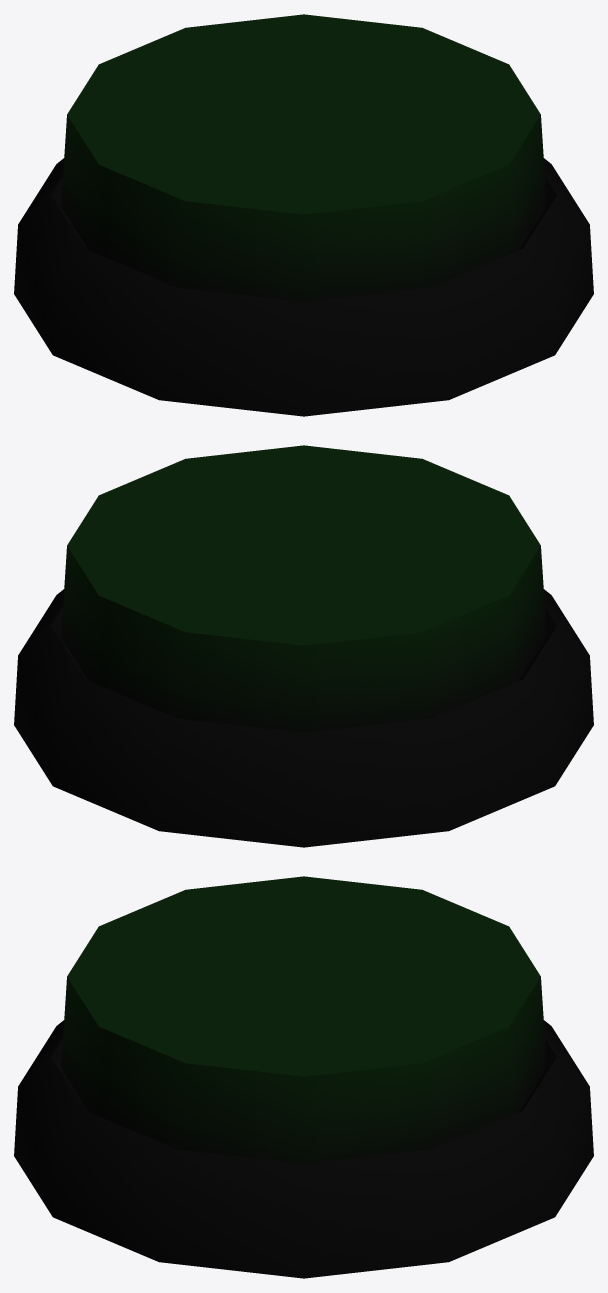
File: Beacon Bulb.fbx
3 renders of one model, top to bottom at view 1: azimuth 30°, elevation 25°; view 2: azimuth 150°, elevation 25°; view 3: azimuth 270°, elevation 25°, orthographic.
Visible parts, largest first — view 1: Beacon Bulb; view 2: Beacon Bulb; view 3: Beacon Bulb.
Boxes of the visible parts, <box> form: Beacon Bulb: <box>14,14,593,416</box>; Beacon Bulb: <box>14,445,593,847</box>; Beacon Bulb: <box>14,876,593,1278</box>.
Bounding box in the file's own units: 49.85 × 17.02 × 49.85.
